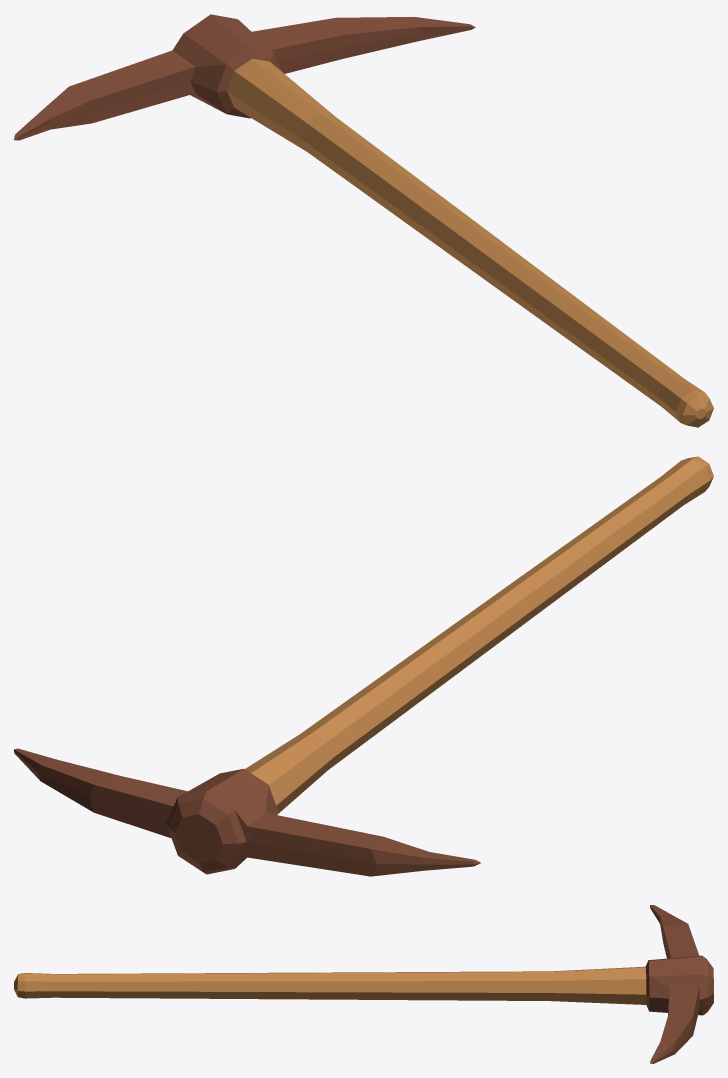
The model's file is chorus.gltf.
3 renders of one model, top to bottom at view 1: azimuth 30°, elevation 25°; view 2: azimuth 150°, elevation 25°; view 3: azimuth 270°, elevation 25°, orthographic. The views are drawn at different scales.
Parts seen in each view (by area): view 1: imagetostl_mesh0; view 2: imagetostl_mesh0; view 3: imagetostl_mesh0.
Boxes of the visible parts, bbox=[...] form: imagetostl_mesh0: bbox=[14, 14, 713, 427]; imagetostl_mesh0: bbox=[14, 456, 713, 876]; imagetostl_mesh0: bbox=[14, 905, 713, 1063].
Bounding box in the file's own units: 5.02 × 0.8544 × 9.38.
